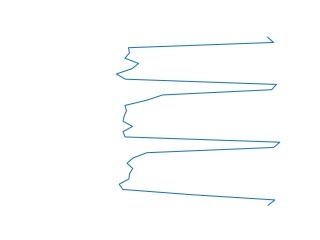majorRiverChannelBar: (114, 37, 282, 205)
